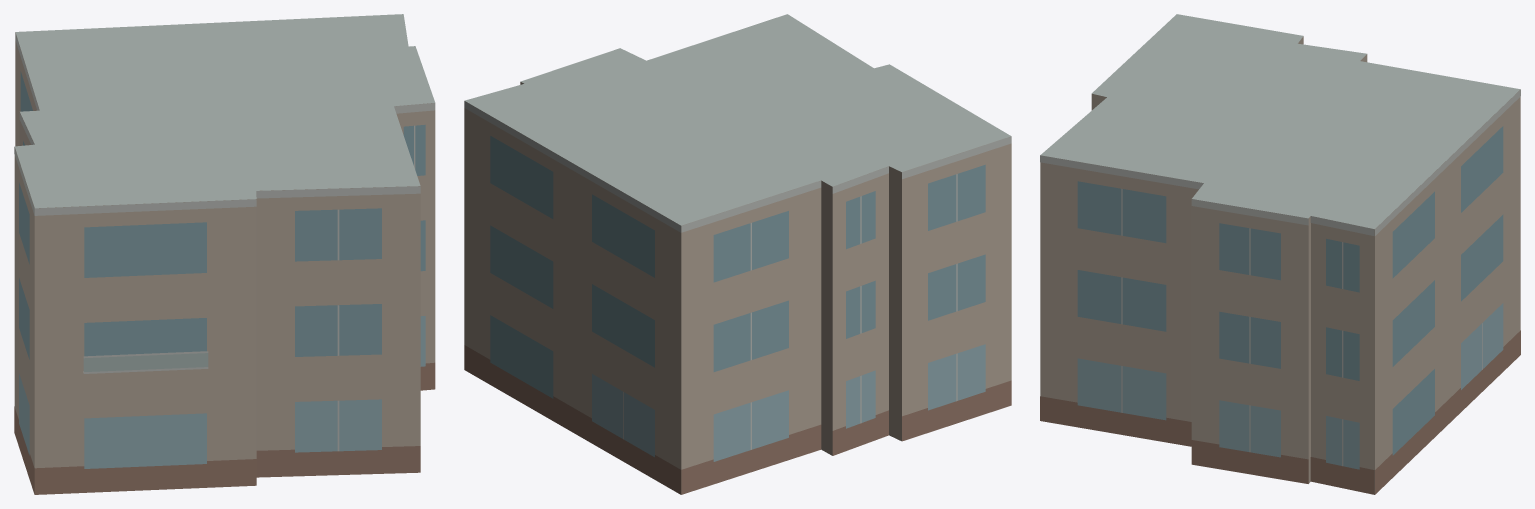
The model's file is survey-upis-32657061.glb.
The picture shows the model from 3 angles, left to right: view 1: azimuth 30°, elevation 25°; view 2: azimuth 150°, elevation 25°; view 3: azimuth 270°, elevation 25°; orthographic projection. The views are drawn at different scales.
Parts seen in each view (by area): view 1: survey-upis-32657061.tmp; view 2: survey-upis-32657061.tmp; view 3: survey-upis-32657061.tmp.
Boxes of the visible parts, x1=… form: survey-upis-32657061.tmp: x1=14, y1=14, x2=435, y2=494; survey-upis-32657061.tmp: x1=464, y1=14, x2=1011, y2=494; survey-upis-32657061.tmp: x1=1040, y1=14, x2=1520, y2=494.
Bounding box in the file's own units: 15.91 × 9.15 × 15.01.
